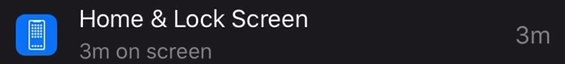name: (73, 2, 316, 34)
time: (75, 38, 115, 64)
